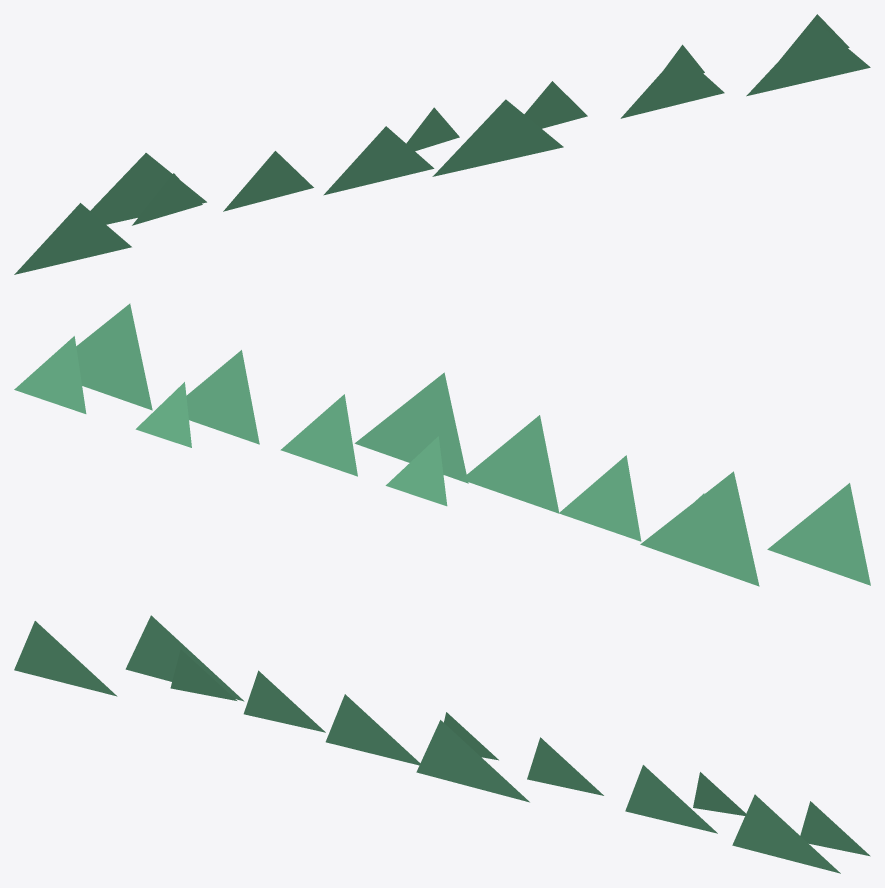
Rendered from prop_bulk_gen_0299_lod1.gltf.
3 renders of one model, top to bottom at view 1: azimuth 30°, elevation 25°; view 2: azimuth 150°, elevation 25°; view 3: azimuth 330°, elevation 25°, orthographic.
Parts seen in each view (by area): view 1: prop_bulk_gen_0299_lod1; view 2: prop_bulk_gen_0299_lod1; view 3: prop_bulk_gen_0299_lod1.
Part boxes in pixels (<box>): prop_bulk_gen_0299_lod1: <box>14,14,870,274</box>; prop_bulk_gen_0299_lod1: <box>14,303,870,586</box>; prop_bulk_gen_0299_lod1: <box>14,615,870,873</box>.
Size of the model in its own units: 0.7092 by 0.0686 by 0.0831.
